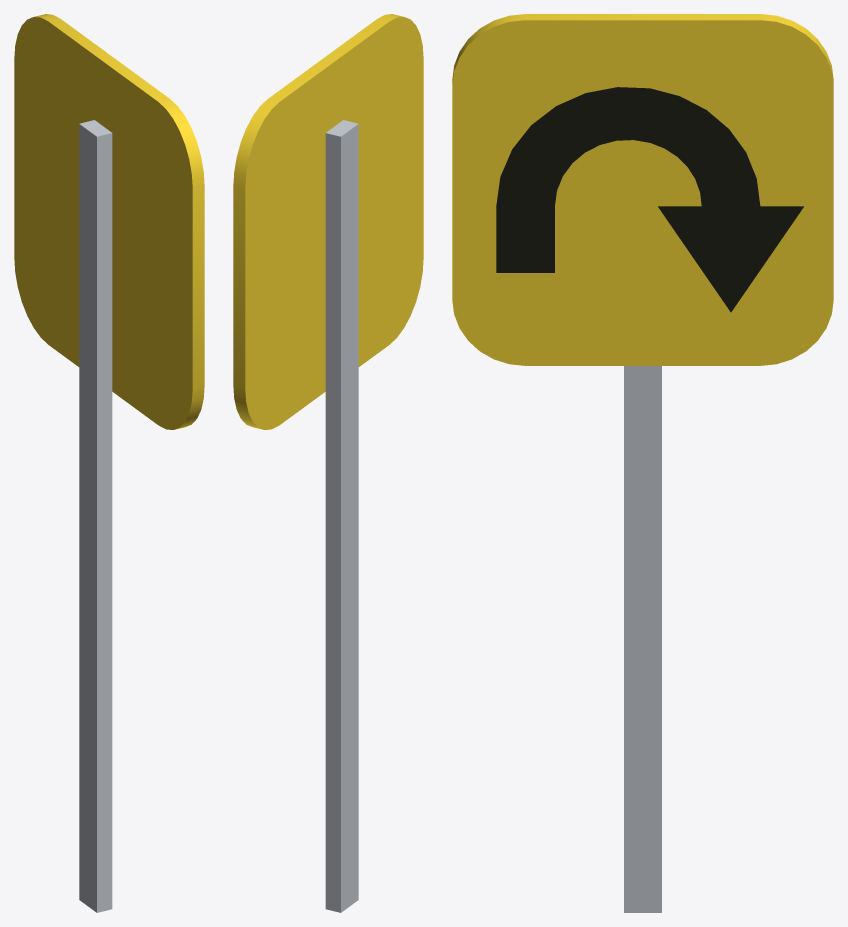
Rendered from signPointRight180.fbx.
3 renders of one model, left to right at view 1: azimuth 30°, elevation 25°; view 2: azimuth 150°, elevation 25°; view 3: azimuth 270°, elevation 25°, orthographic. The views are drawn at different scales.
Visible parts, largest first — view 1: signPointRight180; view 2: signPointRight180; view 3: signPointRight180.
Boxes of the visible parts, x1,y1,x2,y2 form: signPointRight180: (14, 14, 204, 912); signPointRight180: (233, 14, 423, 912); signPointRight180: (452, 14, 833, 912).
Size of the model in its own units: 13.7 by 403 by 155.
